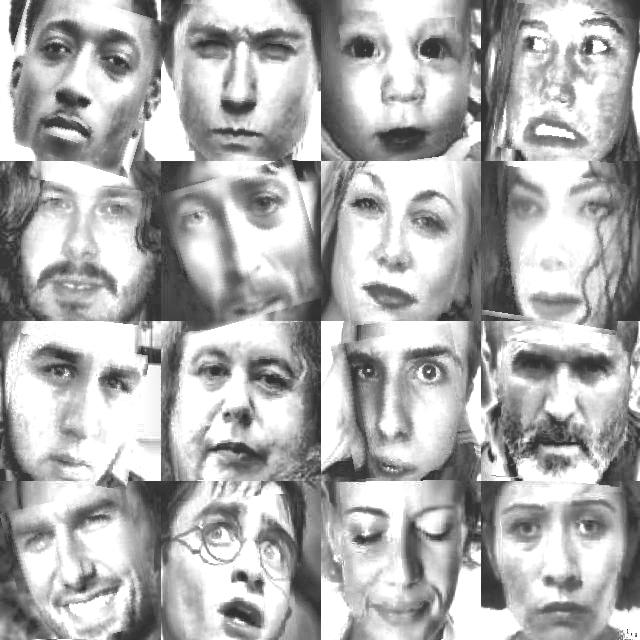angry: (0, 0, 163, 169), (497, 6, 635, 160), (172, 6, 309, 158), (494, 344, 629, 484)
fear: (337, 328, 471, 480), (170, 495, 295, 640)
happy: (160, 165, 322, 327), (335, 159, 467, 323), (7, 491, 148, 640)
neutral: (488, 170, 634, 331), (169, 324, 317, 479), (2, 338, 143, 485), (18, 182, 150, 322), (342, 19, 462, 159)
sad: (329, 477, 459, 640), (487, 493, 627, 640)
